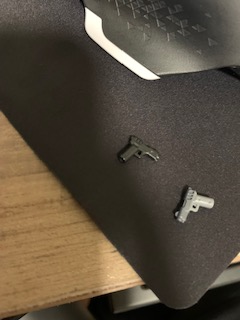pistol: (171, 180, 219, 228), (115, 131, 164, 170)
